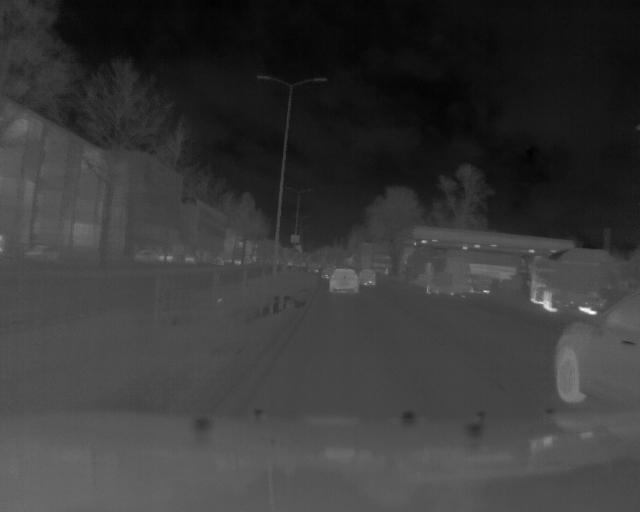car: (548, 283, 637, 413), (415, 243, 492, 297), (330, 259, 363, 296), (30, 242, 69, 265), (362, 264, 372, 289)
